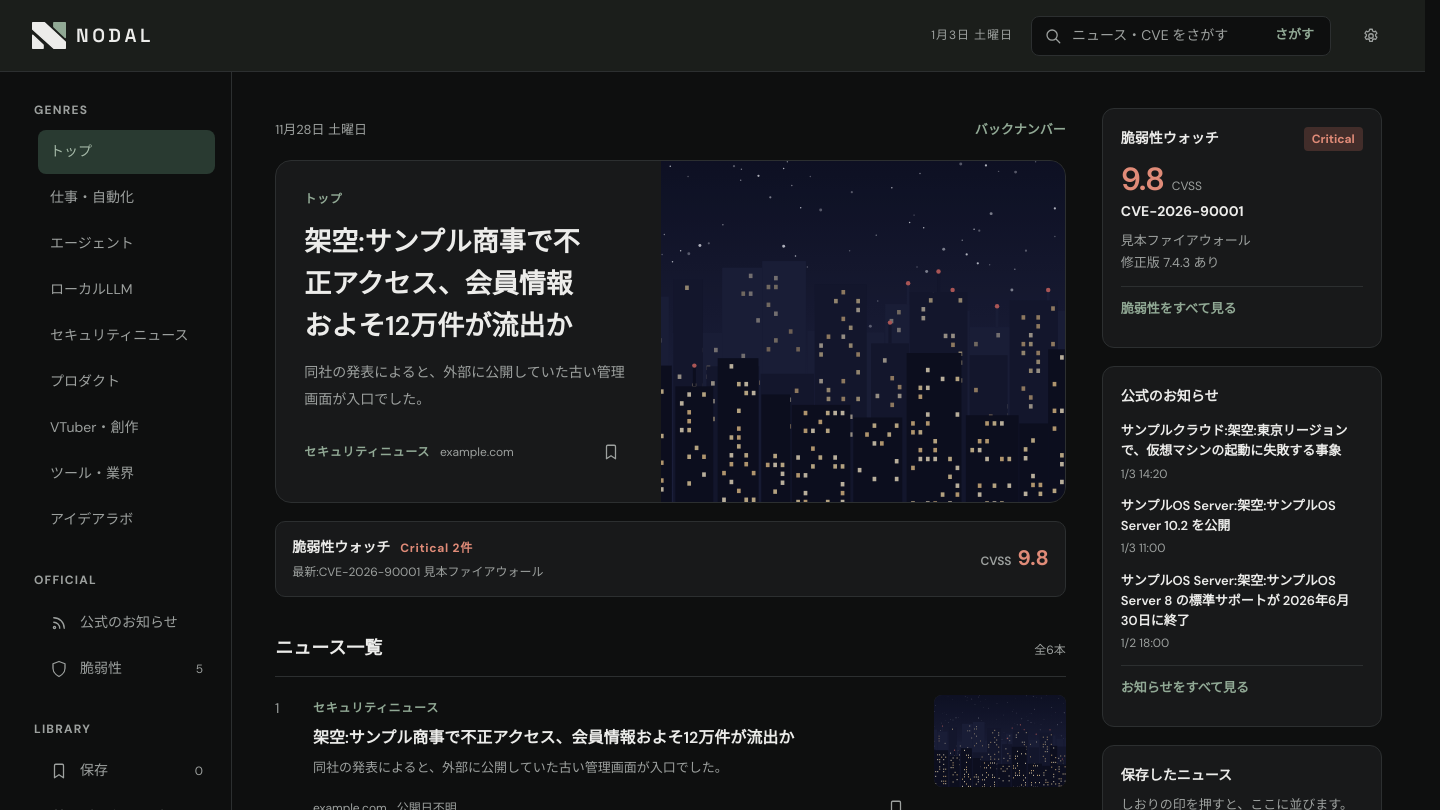
it: さがす › 上の欄に入れて送ると、検索語が URL に入り、ニュース・公式のお知らせ・脆弱性・ジャンルを分けて出す
Type " サンプルOS " into the dropdown named "検索語" at [1166, 36], box top-left (1070, 23), bottom-right (1263, 48)
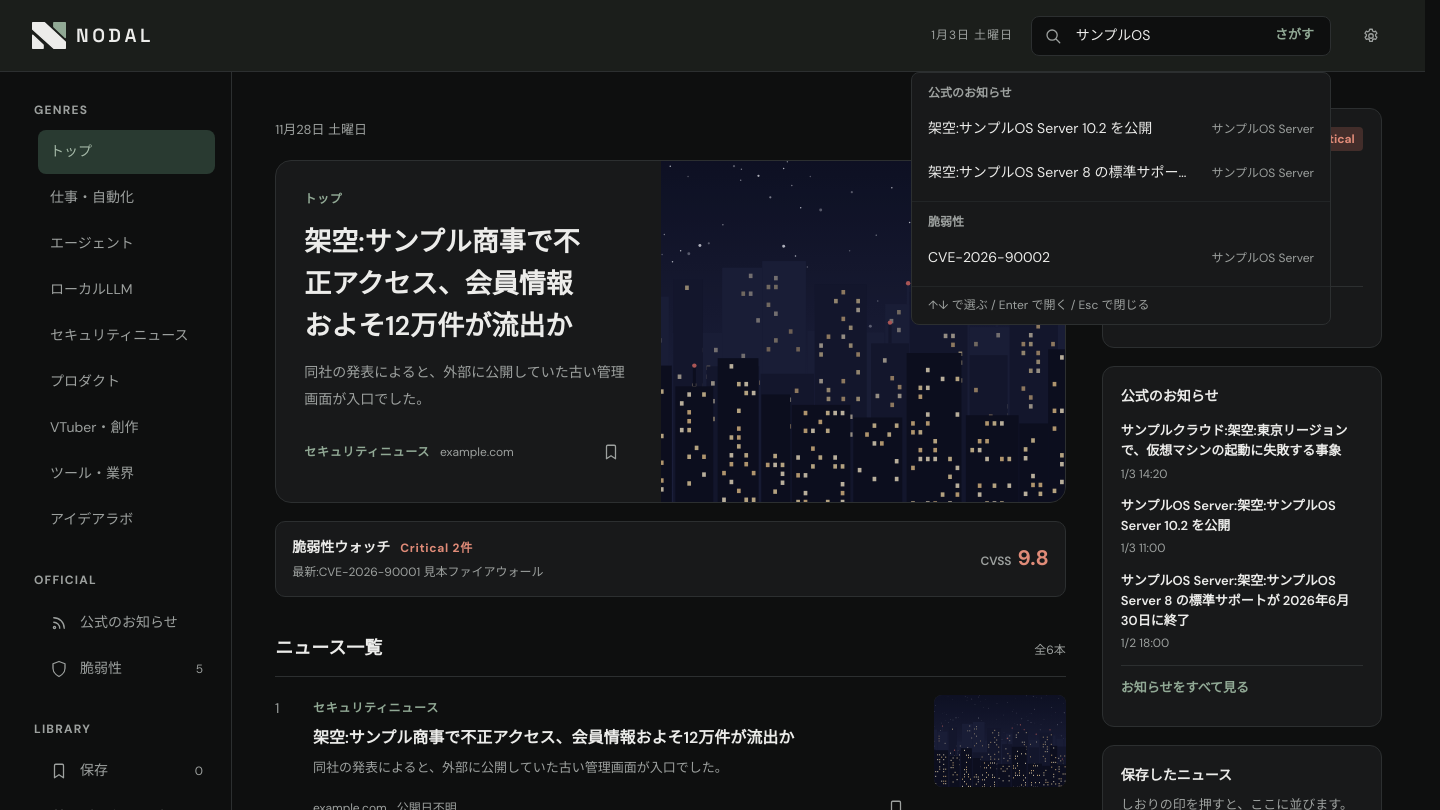
Submit the form, box top-left (1031, 16), bottom-right (1331, 56)
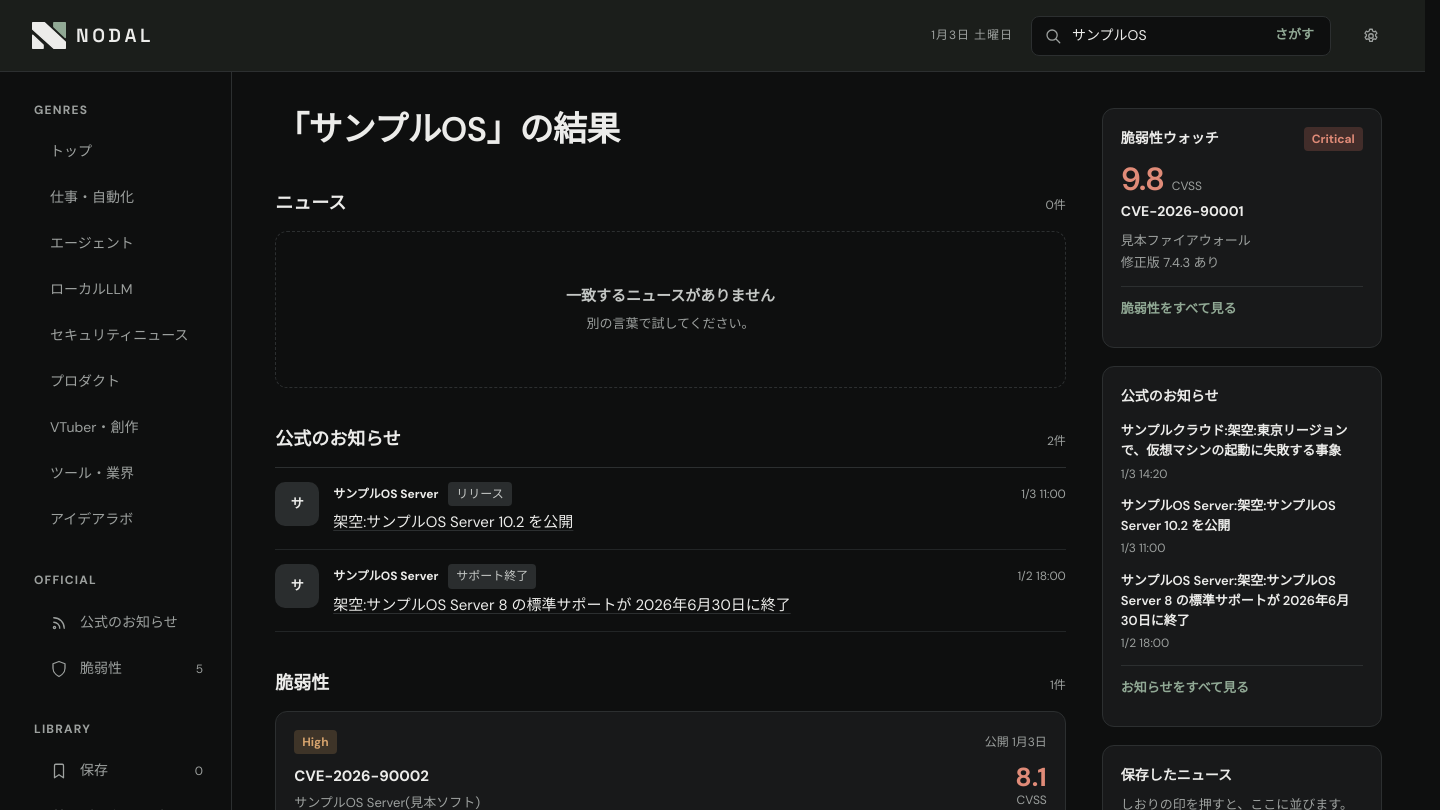
expect the link "CVE-2026-90002" is shown: met, box top-left (294, 766), bottom-right (429, 786)
expect the heading "「サンプルOS」の結果" is shown: met, box top-left (275, 107), bottom-right (620, 152)
expect the text "一致するニュースがありません" is shown: met, box top-left (566, 286), bottom-right (775, 306)
